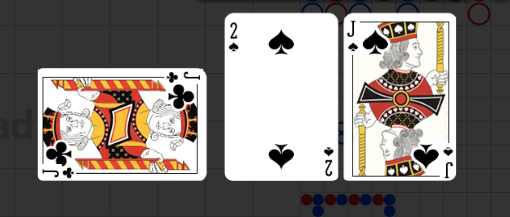2S: (322, 144, 335, 177)
JC: (41, 165, 76, 179)
JS: (411, 132, 455, 179), (344, 12, 388, 58)
